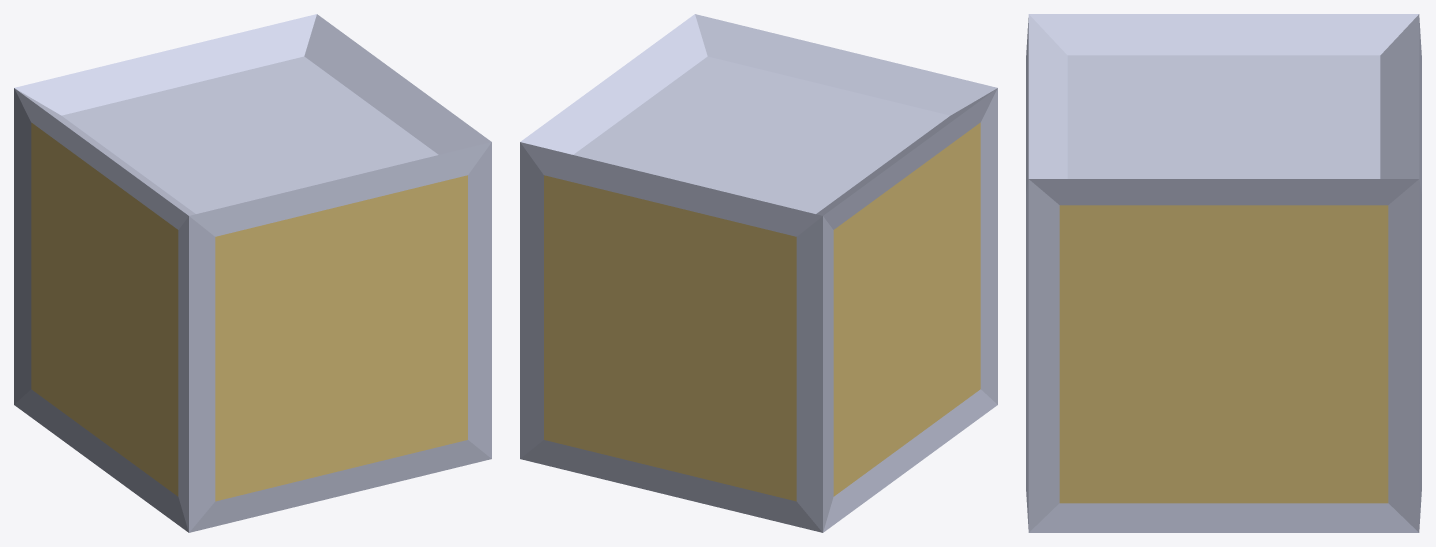
3 renders of one model, left to right at view 1: azimuth 30°, elevation 25°; view 2: azimuth 150°, elevation 25°; view 3: azimuth 270°, elevation 25°, orthographic. The views are drawn at different scales.
Parts seen in each view (by area): view 1: Cube; view 2: Cube; view 3: Cube.
Part boxes in pixels (bbox=[...]): Cube: bbox=[14, 14, 491, 532]; Cube: bbox=[520, 14, 997, 532]; Cube: bbox=[1026, 14, 1421, 532].
Size of the model in its own units: 200 by 200 by 203.
